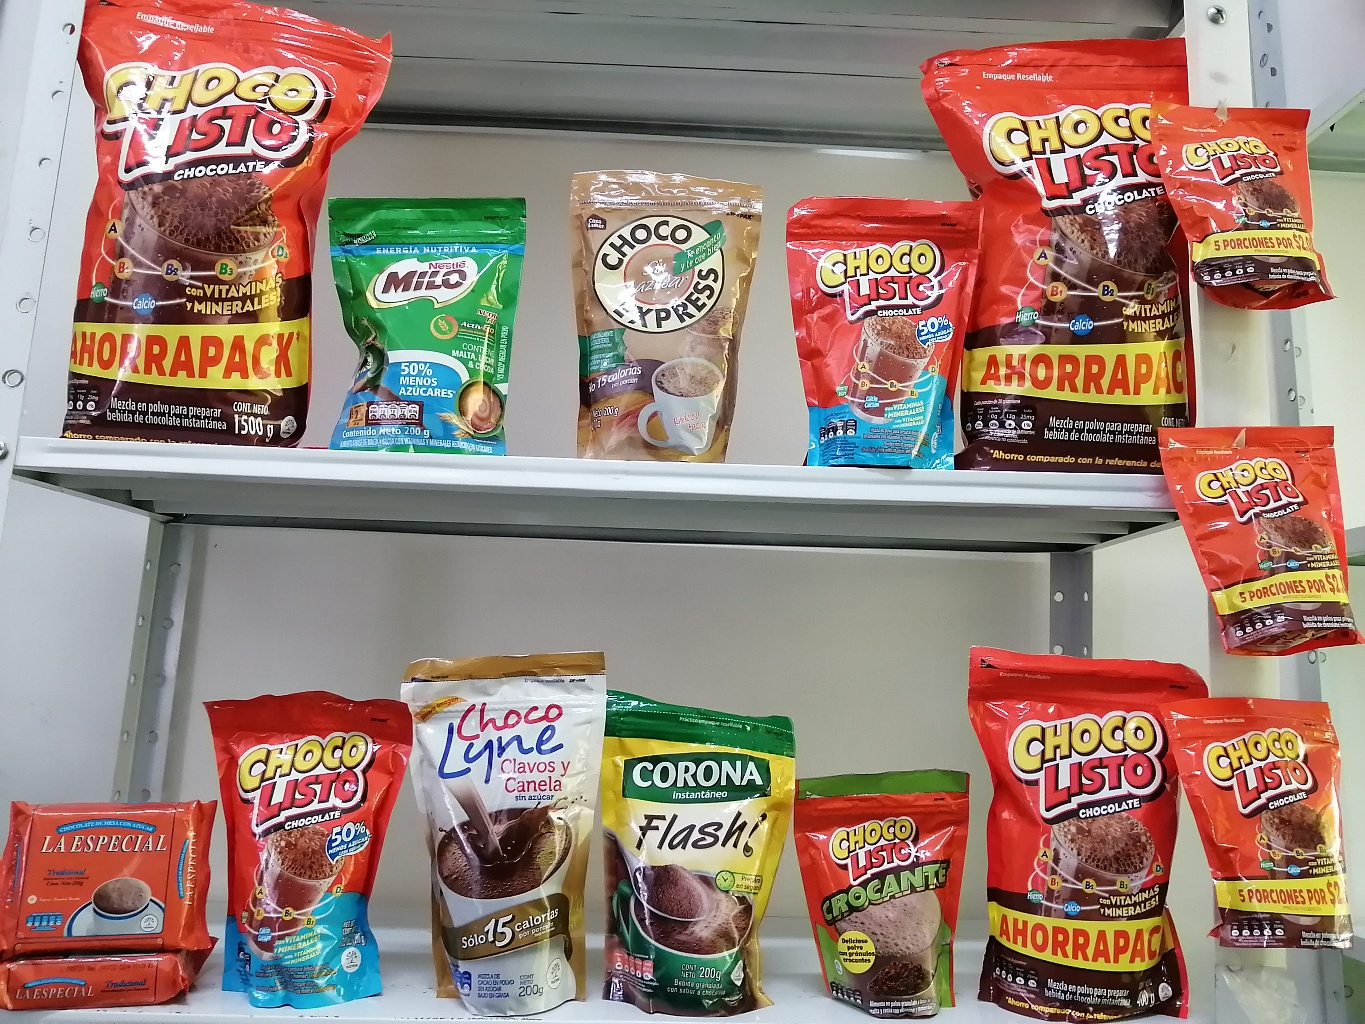COL0170103DYP1,500: (992, 49, 1317, 568)
COL0170103DYP36000: (719, 209, 973, 571)
COL0170103DYP40000: (460, 207, 716, 575)
COL0170104DYP20000: (93, 248, 333, 550)
COL0170203LAT20000: (338, 368, 472, 560)
COL0170203LAT40000: (1004, 791, 1170, 1002)
COL0170205DYP50000: (797, 692, 1029, 1009)
